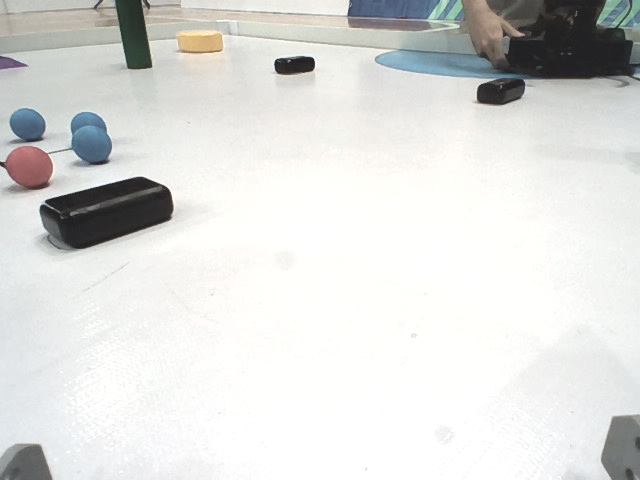black: (39, 179, 174, 248), (471, 74, 527, 110), (273, 53, 318, 75)
blue: (70, 127, 113, 164), (8, 105, 45, 138), (70, 111, 106, 140)
red: (6, 145, 57, 185)
yellow: (174, 28, 231, 56)
zhuzi: (116, 1, 157, 74)
